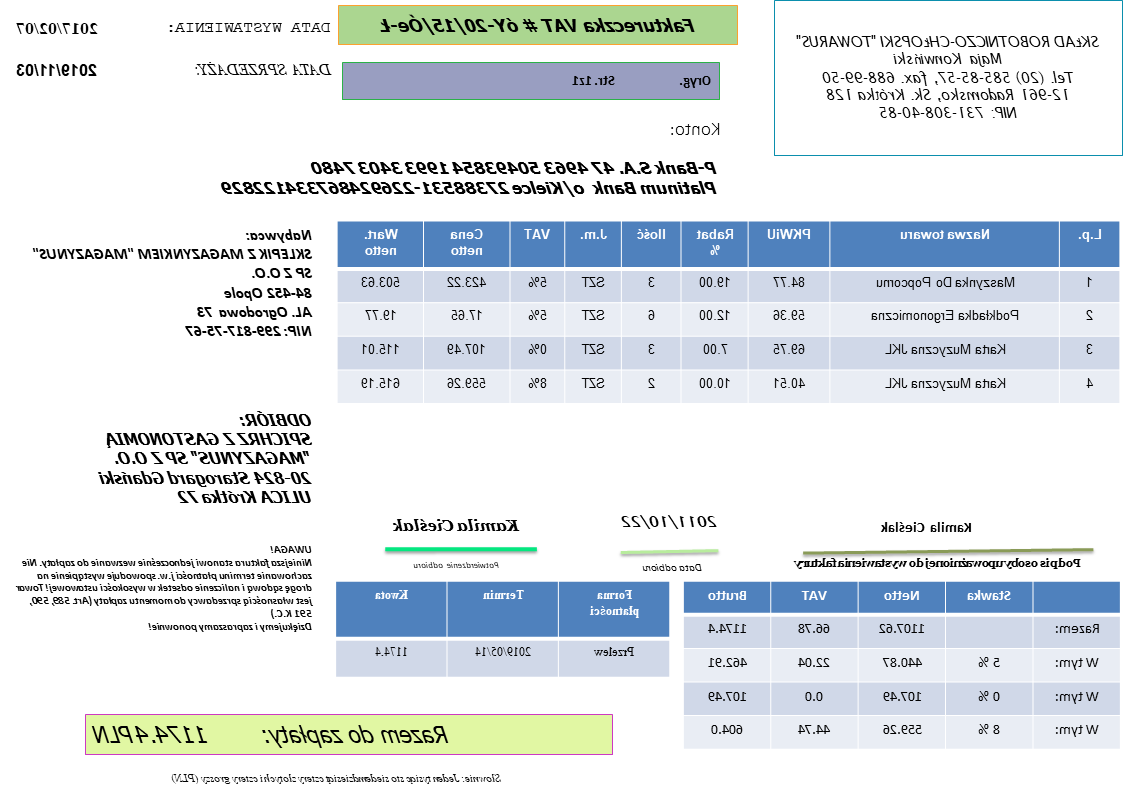Table: (337, 219, 1121, 404), (681, 580, 1121, 749), (335, 579, 671, 679)
TextBox: (30, 225, 315, 341), (12, 543, 315, 635), (793, 31, 1102, 121), (94, 410, 313, 507), (220, 157, 720, 198), (89, 718, 451, 749), (377, 13, 698, 39), (169, 768, 503, 787), (792, 553, 1085, 573), (166, 18, 335, 37), (571, 71, 714, 92), (389, 514, 521, 535), (192, 59, 333, 78), (619, 511, 719, 531), (14, 17, 100, 39), (14, 59, 100, 80), (879, 519, 975, 536), (412, 558, 502, 571), (669, 120, 724, 140), (642, 561, 705, 575)
